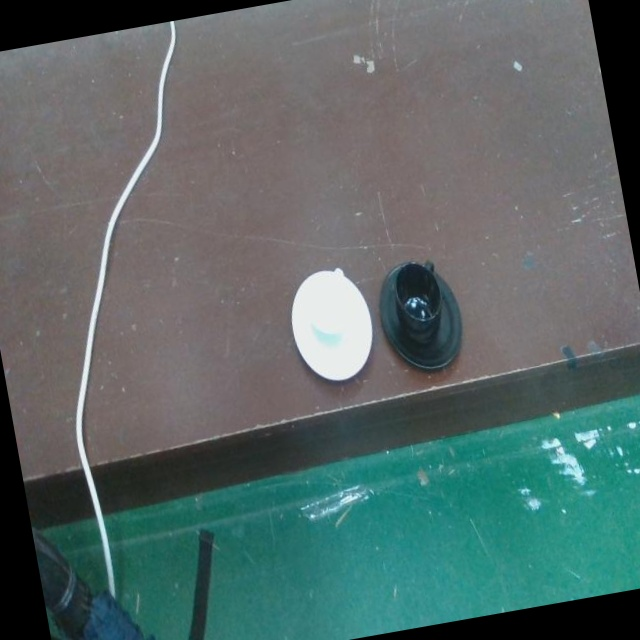black: (379, 253, 463, 376)
white: (291, 265, 374, 390)
